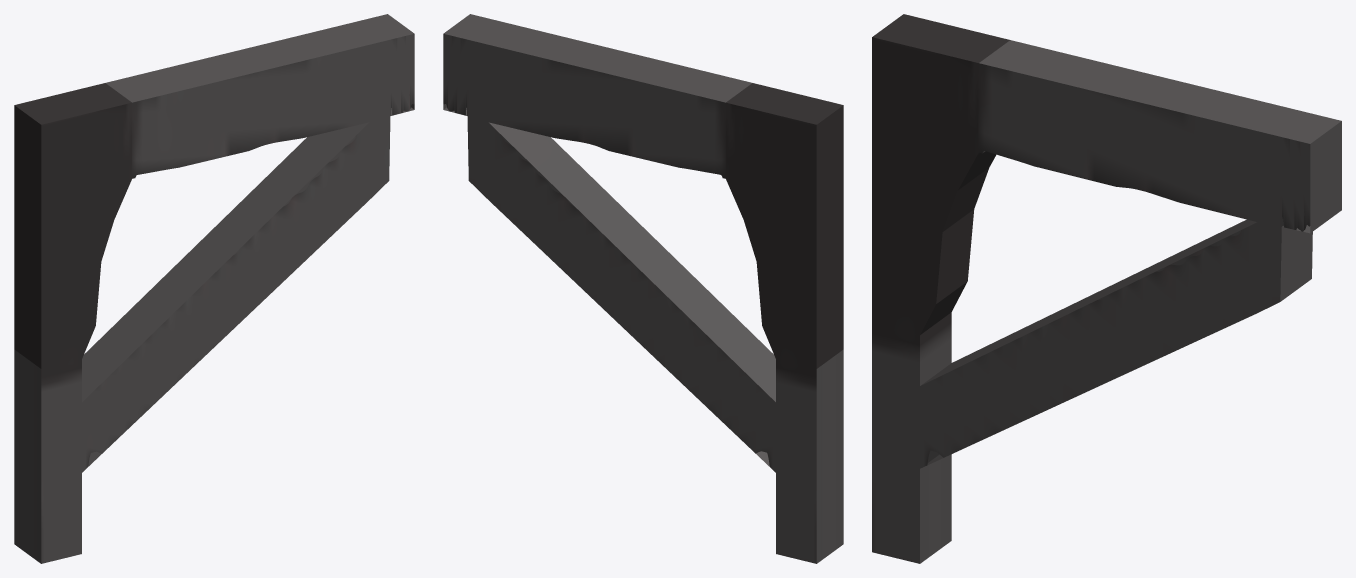
The model's file is PoleAttachmentSmall.fbx.
3 views of the same model, side by side, from view 1: azimuth 30°, elevation 25°; view 2: azimuth 150°, elevation 25°; view 3: azimuth 330°, elevation 25° (orthographic). The views are drawn at different scales.
Visible parts, largest first — view 1: PoleAttachmentSmall; view 2: PoleAttachmentSmall; view 3: PoleAttachmentSmall.
Boxes of the visible parts, x1=… form: PoleAttachmentSmall: x1=14, y1=14, x2=414, y2=563; PoleAttachmentSmall: x1=443, y1=14, x2=843, y2=563; PoleAttachmentSmall: x1=872, y1=14, x2=1341, y2=563.
Size of the model in its own units: 120 by 135 by 15.
1 material, 1 textured.
